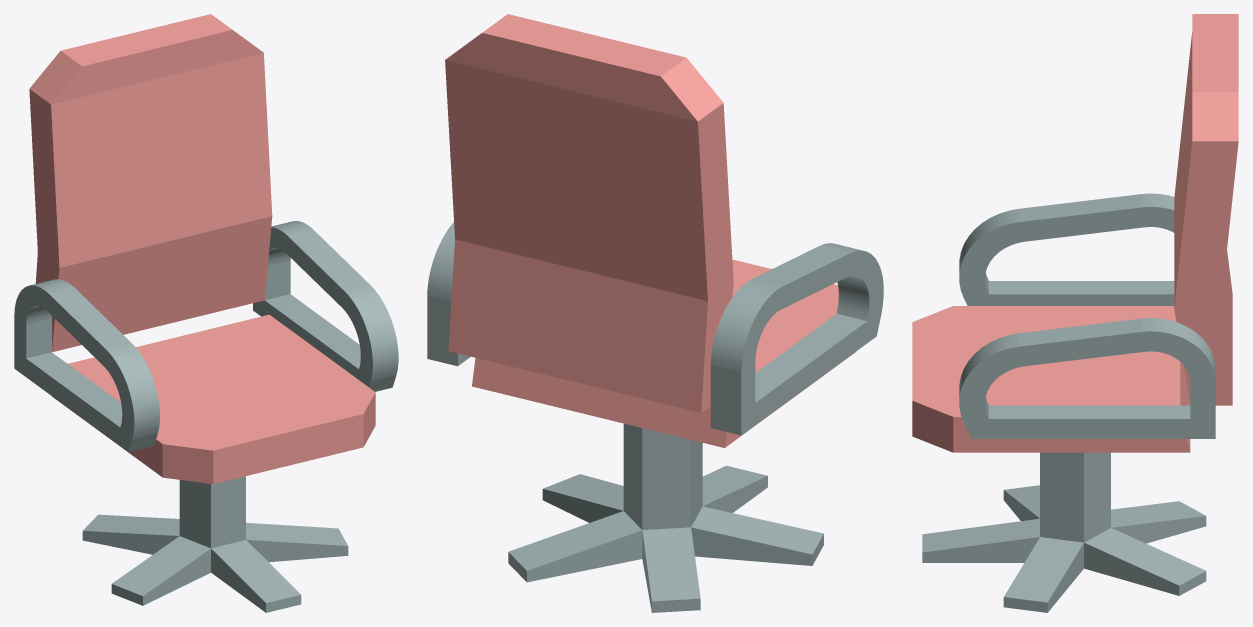
File: kenney-chairDesk.glb
3 views of the same model, side by side, from view 1: azimuth 30°, elevation 25°; view 2: azimuth 150°, elevation 25°; view 3: azimuth 270°, elevation 25° (orthographic). The views are drawn at different scales.
Visible parts, largest first — view 1: chair, Mesh chairDesk; view 2: chair, Mesh chairDesk; view 3: chair, Mesh chairDesk.
Part boxes in pixels (x1,y1,x2,y2): chair: (14,14,398,483); Mesh chairDesk: (82,476,348,612); chair: (427,14,883,447); Mesh chairDesk: (508,423,823,612); chair: (912,14,1238,452); Mesh chairDesk: (922,452,1206,612).
Bounding box in the file's own units: 0.65 × 1.1 × 0.65.
